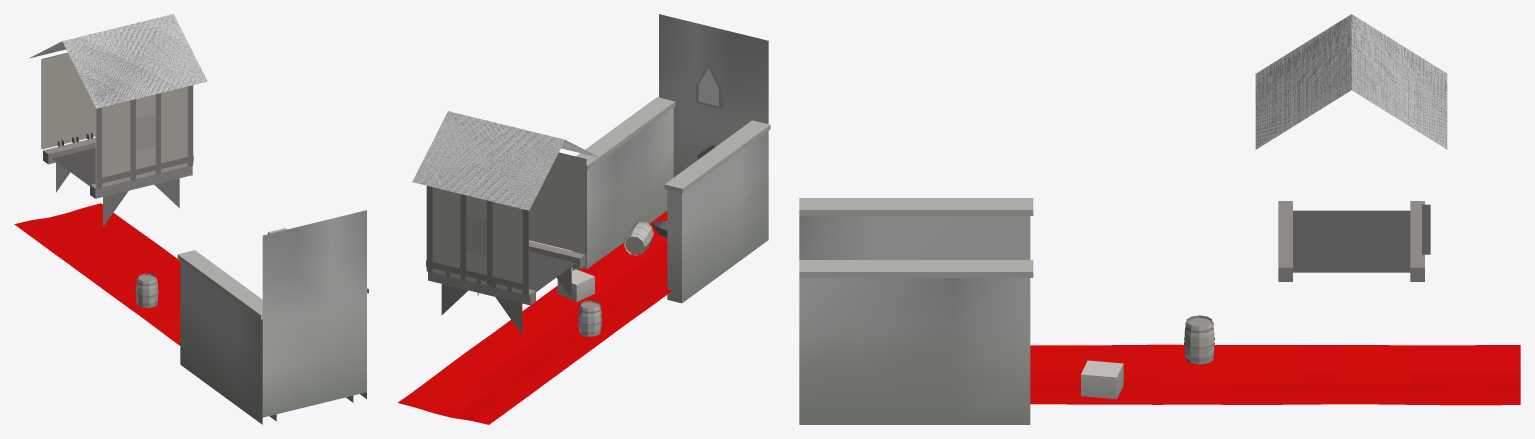
File: env_alley_a.glb
3 renders of one model, left to right at view 1: azimuth 30°, elevation 25°; view 2: azimuth 150°, elevation 25°; view 3: azimuth 270°, elevation 25°, orthographic. The views are drawn at different scales.
Visible parts, largest first — view 1: Alley; view 2: Alley; view 3: Alley.
Boxes of the visible parts, x1,y1,x2,y2 form: Alley: [14, 14, 368, 424]; Alley: [398, 14, 770, 424]; Alley: [799, 14, 1520, 424].
Size of what is drawn, in the model's own units: 3.2 by 6.6 by 12.8.
